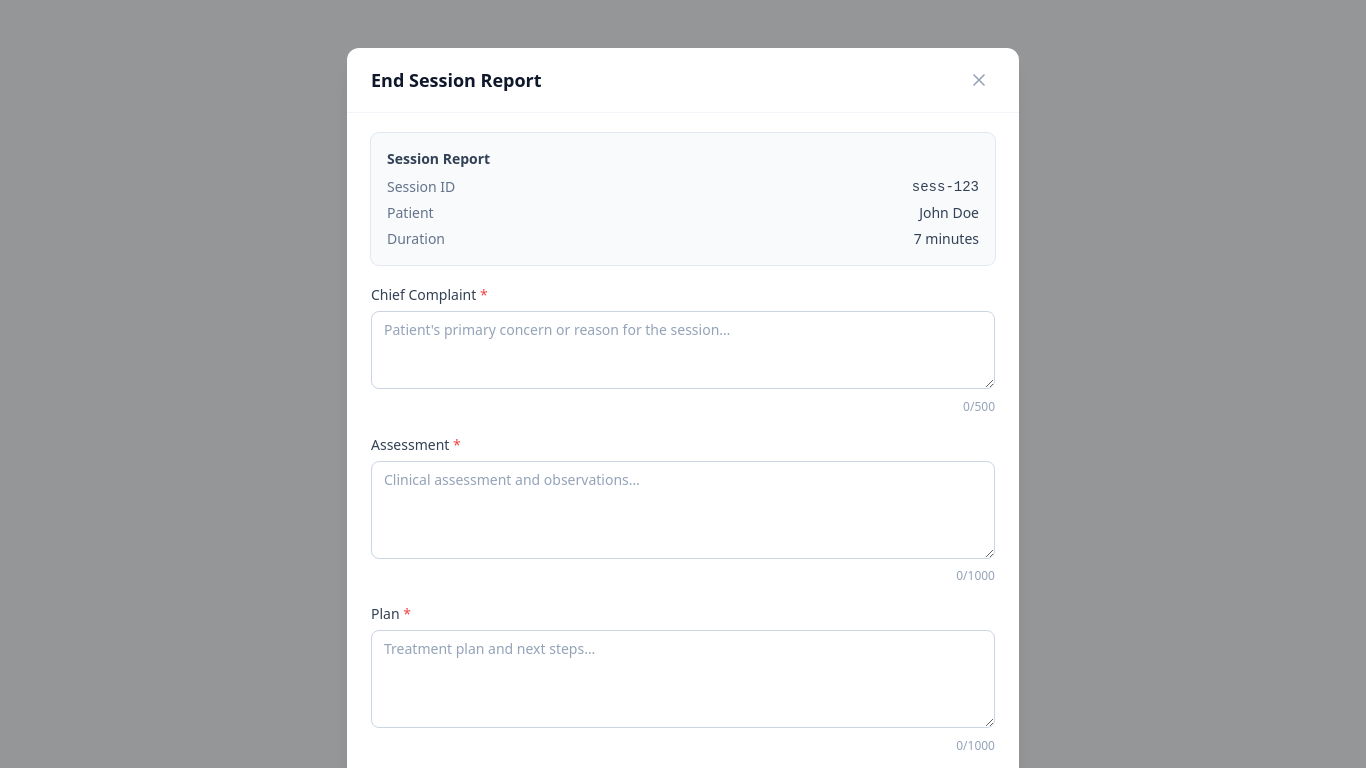
Test: ReportModal › shows confirmation dialog when close button is clicked
The width and height of the screenshot is (1366, 768).
Click the button named "Close modal" at (979, 80), box [963,64,995,96]
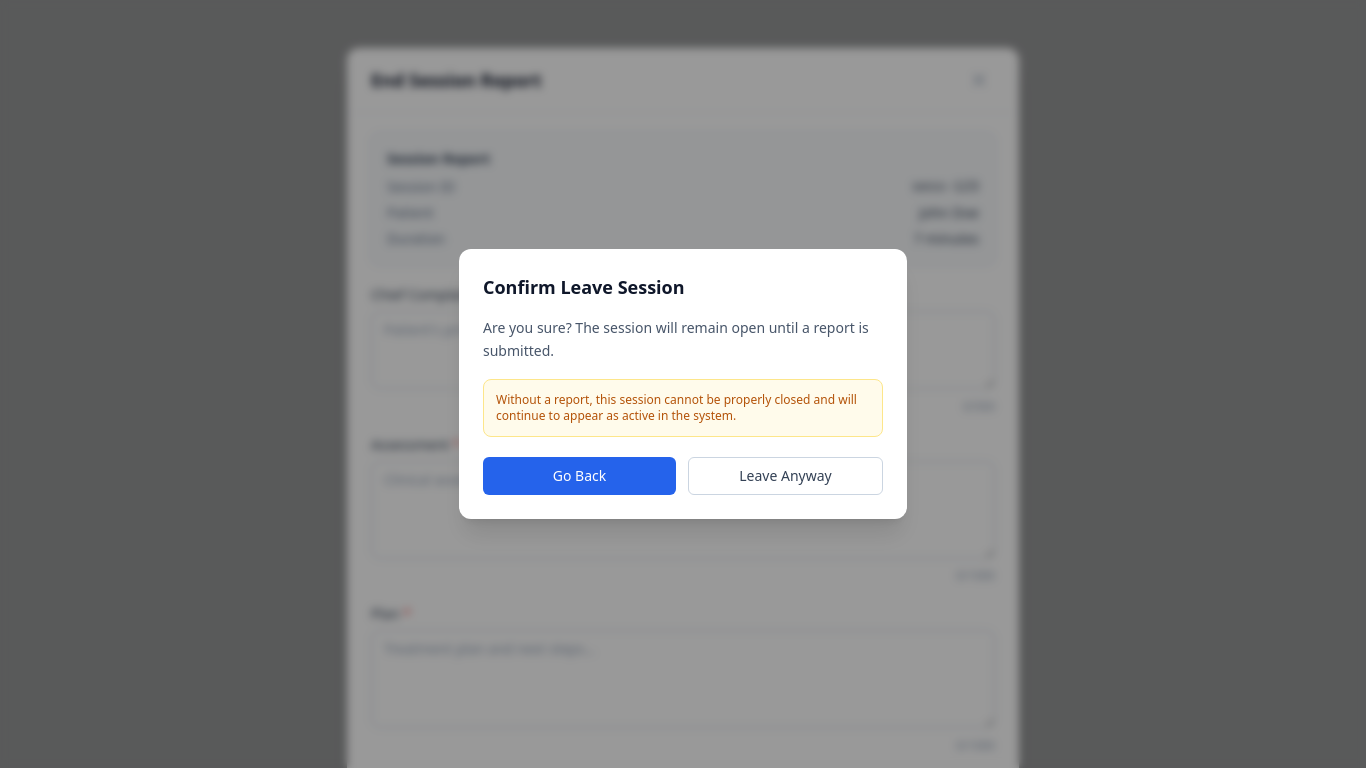
Result: the text "Are you sure? The session will remain open until a report is submitted." is shown at [483,317,883,363]
